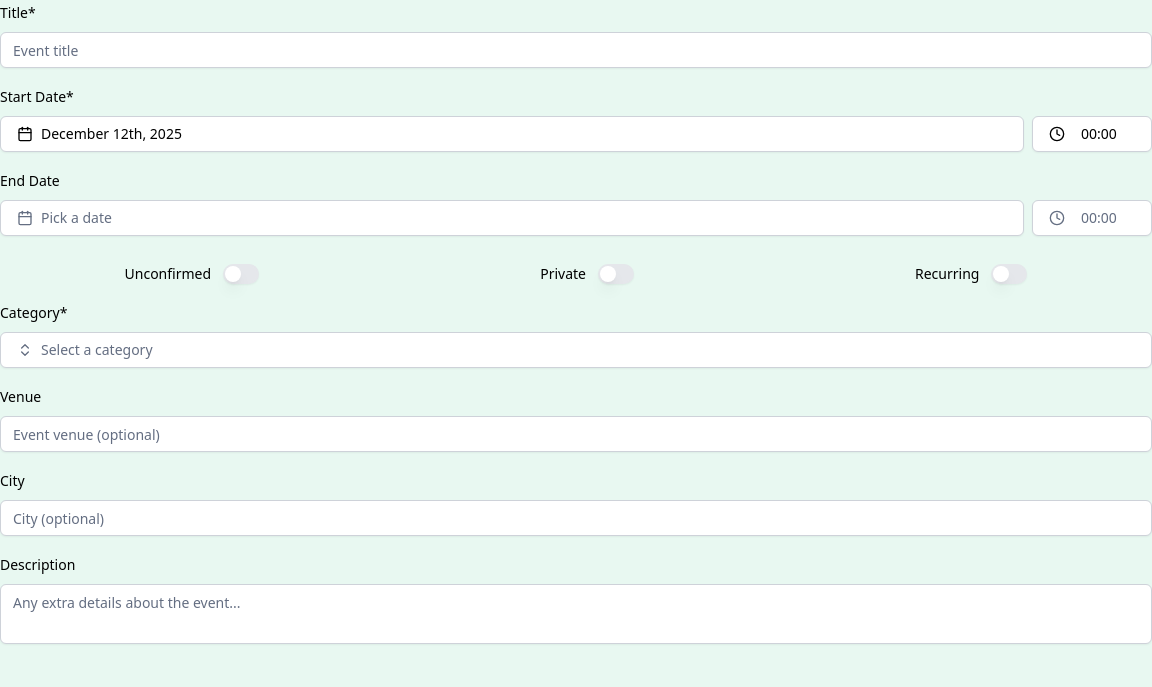
Test: Event Form Integration › Event Creation › shows recurring event fields when 'Recurring' is toggled on
This screenshot has width=1152, height=687.
Expected: the field labelled "Frequency*" is not shown
# Toggle recurring on
What coordinates should you click on to do the following:
click the switch named "Recurring" next to "Recurring"
I would click on:
 (1009, 274)
Its box is [991,264,1027,284].
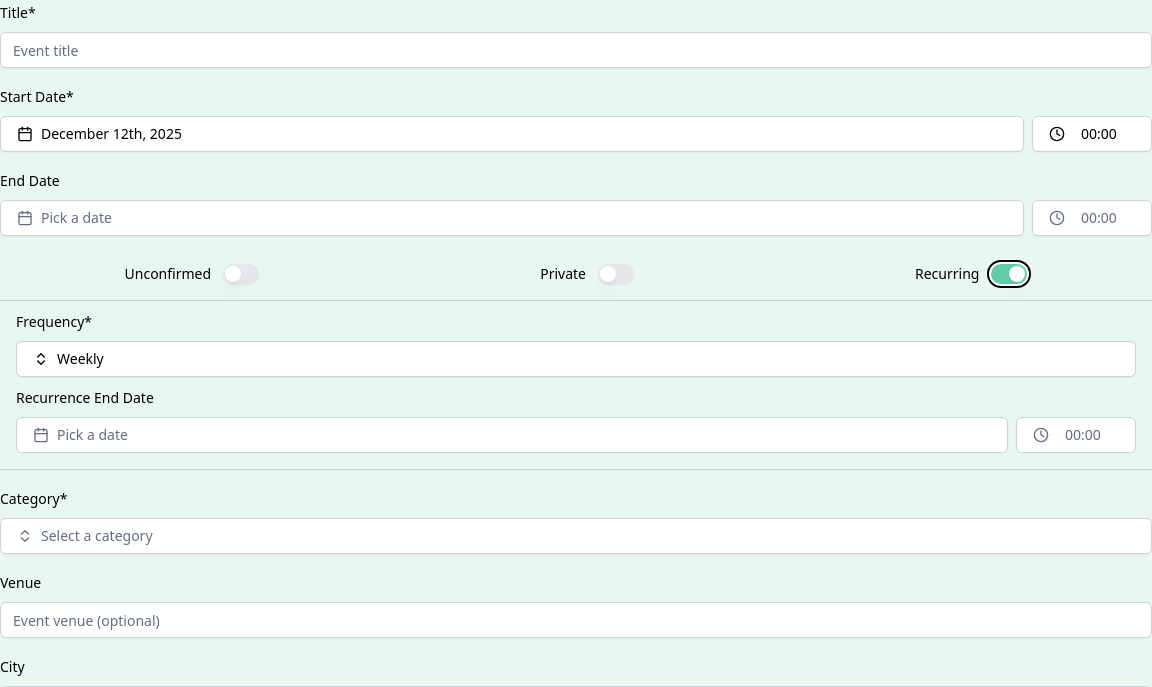
Expected: the dropdown named "Frequency*" is shown, [16,341,1136,377]
Expected: the button named "Recurrence End Date" is shown, [16,417,1008,453]
